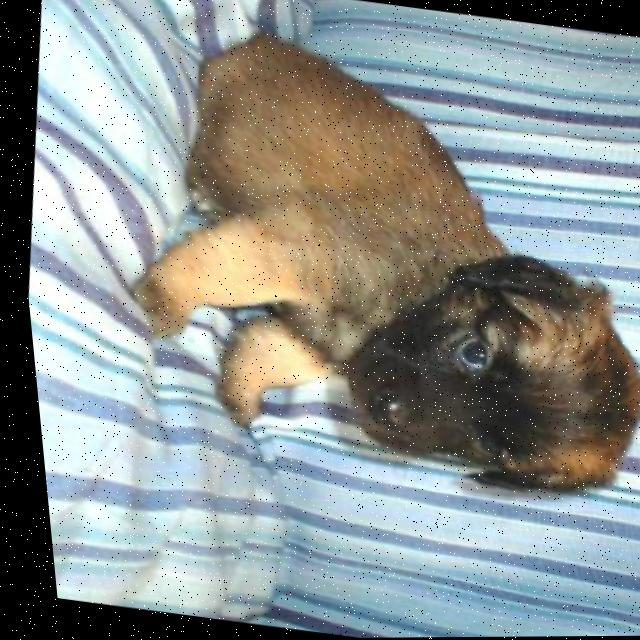dogs: (50, 57, 640, 521)
